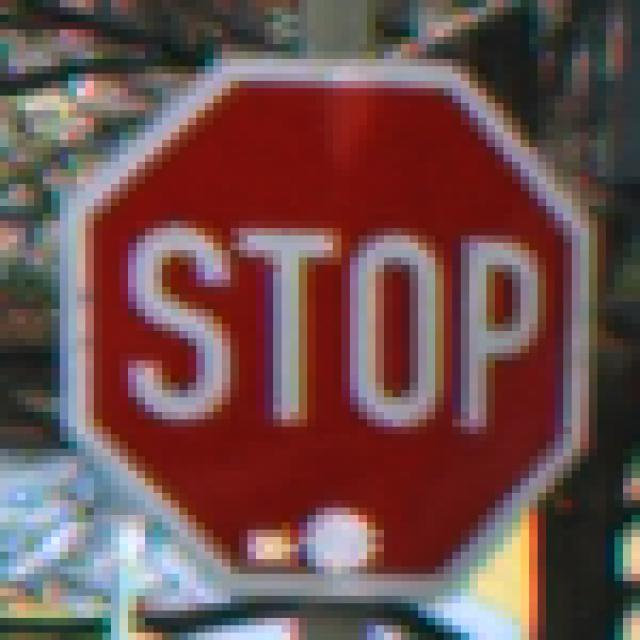STOP: (61, 60, 590, 589)
